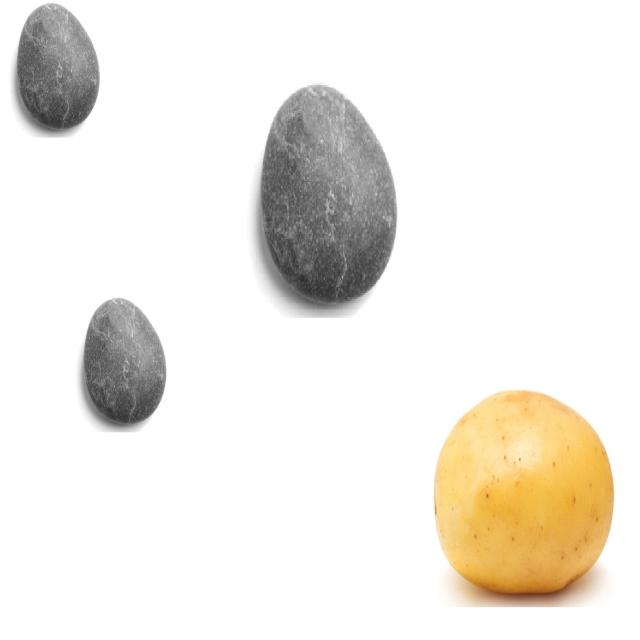potato: (433, 392, 615, 598)
